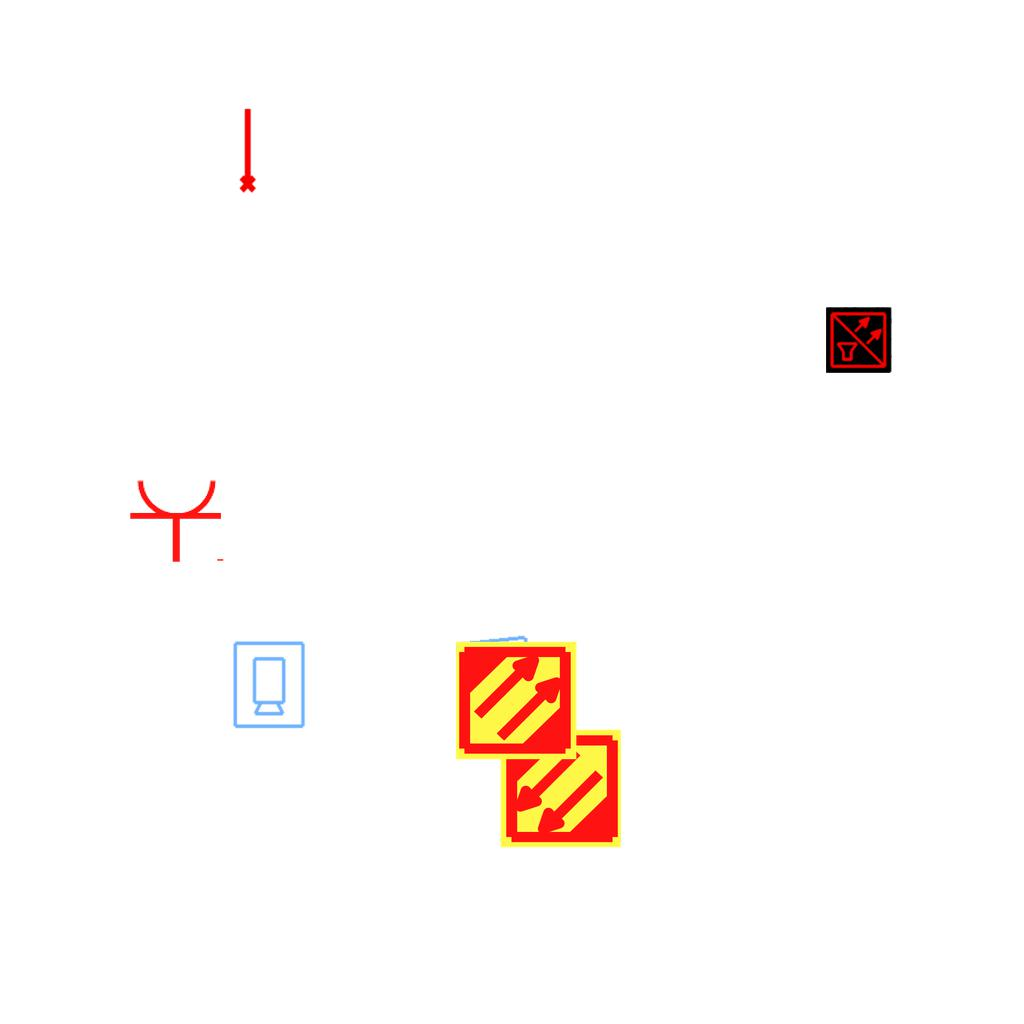ASR_Ansaugoeffnung: (235, 106, 258, 194)
ASR_Ansaugrauchmelder: (498, 726, 623, 851), (454, 638, 579, 763)
KFO_Kamera_mit_Festobjektiv: (453, 633, 540, 732), (230, 639, 307, 730)
OKW_Multisensormelder_(Kombination_optischer_Rauch-Kahlenmonoxid_Waerme-Melder): (826, 307, 892, 373)
Schukosteckdose_einfach: (128, 477, 228, 564)
